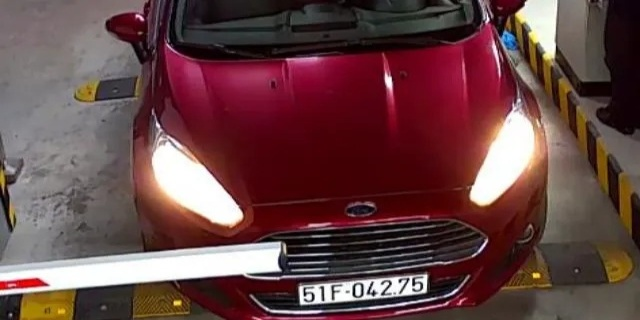bien_so: (300, 276, 426, 304)
